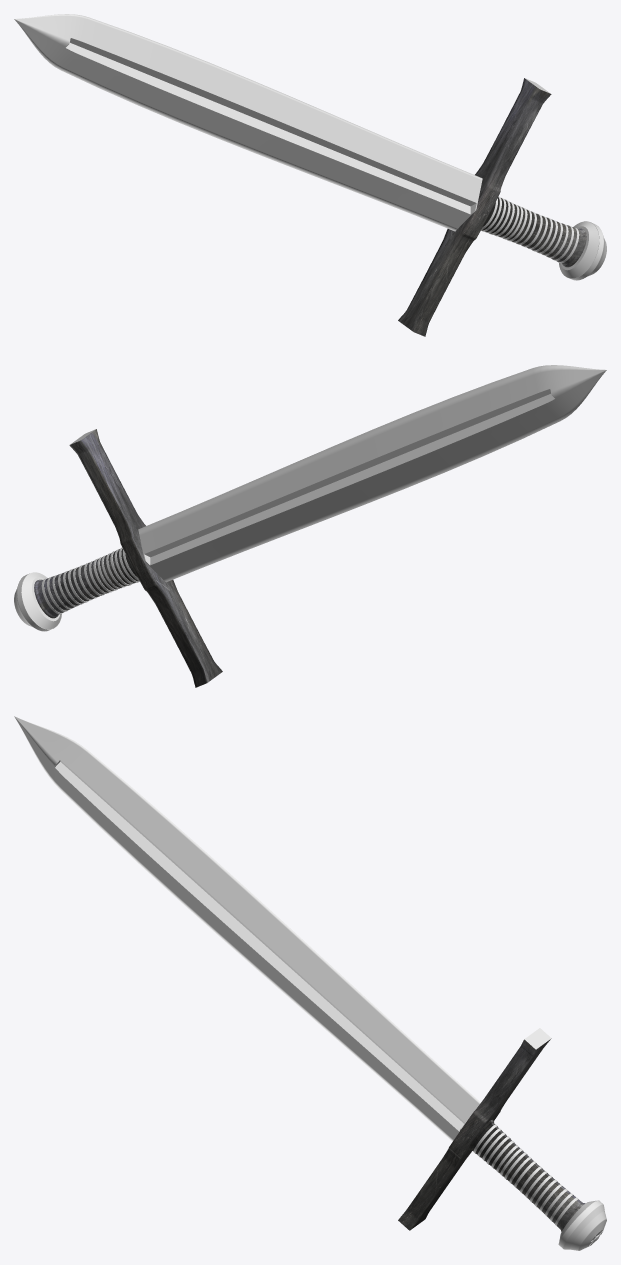
File: Knight Sword fbx.fbx
The picture shows the model from 3 angles, top to bottom: view 1: azimuth 30°, elevation 25°; view 2: azimuth 150°, elevation 25°; view 3: azimuth 330°, elevation 25°; orthographic projection.
Parts seen in each view (by area): view 1: a, Guardia, b.1, Loft NURBS, Loft NURBS.2.2, 1); view 2: a, Guardia, b.2, Loft NURBS, Loft NURBS.2.2, 1); view 3: a, b.1, Guardia, Loft NURBS, 1).
Boxes of the visible parts, x1,y1,x2,y2 form: a: [14, 14, 482, 231]; Guardia: [398, 78, 551, 336]; b.1: [66, 38, 476, 214]; Loft NURBS: [481, 197, 586, 267]; Loft NURBS.2.2: [559, 221, 599, 278]; 1): [569, 222, 606, 280]; a: [138, 365, 606, 582]; Guardia: [69, 429, 222, 687]; b.2: [144, 389, 554, 565]; Loft NURBS: [34, 548, 139, 618]; Loft NURBS.2.2: [21, 572, 61, 629]; 1): [14, 573, 51, 631]; a: [14, 716, 480, 1141]; b.1: [55, 760, 464, 1131]; Guardia: [398, 1038, 551, 1230]; Loft NURBS: [468, 1120, 585, 1231]; 1): [558, 1200, 606, 1250].
Bounding box in the file's own units: 4517 × 3013 × 400.
Materials: 2 (2 with a texture image).
